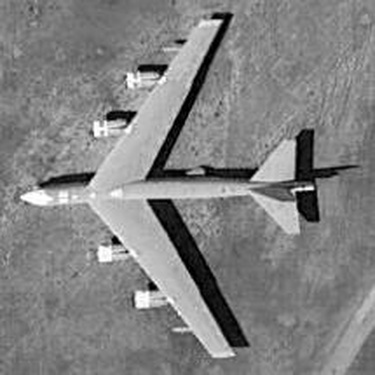airplane: (13, 5, 324, 364)
